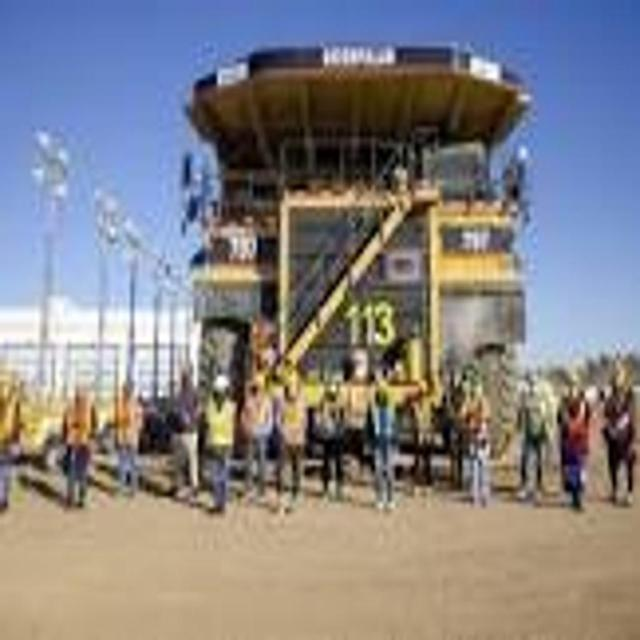dump_truck: (188, 39, 530, 464)
